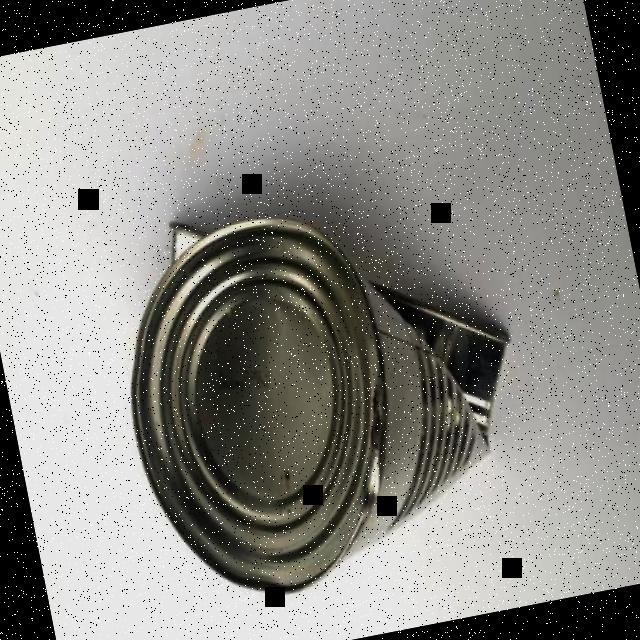can: (95, 155, 553, 622)
